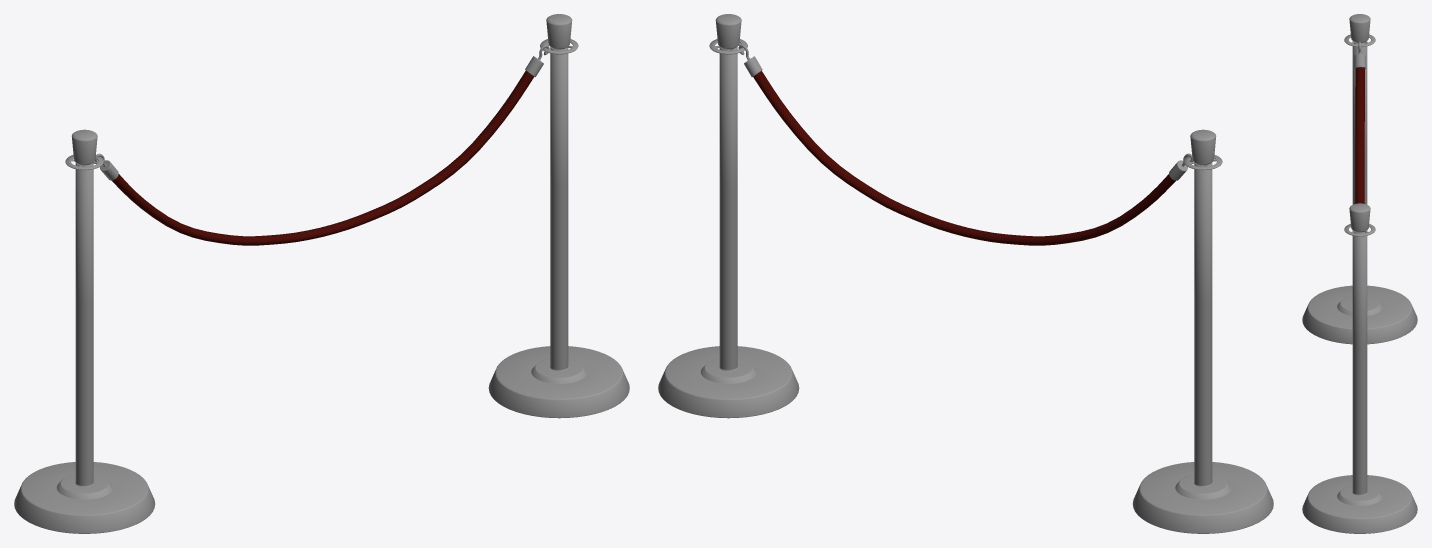
File: entrance_ropes.glb
3 renders of one model, left to right at view 1: azimuth 30°, elevation 25°; view 2: azimuth 150°, elevation 25°; view 3: azimuth 270°, elevation 25°, orthographic. The views are drawn at different scales.
Visible parts, largest first — view 1: MetalPoles_0, Rope_1; view 2: MetalPoles_0, Rope_1; view 3: MetalPoles_0, Rope_1.
Part boxes in pixels (bbox=[...]): MetalPoles_0: bbox=[14, 14, 629, 533]; Rope_1: bbox=[112, 70, 533, 245]; MetalPoles_0: bbox=[658, 14, 1273, 533]; Rope_1: bbox=[753, 71, 1175, 245]; MetalPoles_0: bbox=[1302, 14, 1417, 533]; Rope_1: bbox=[1355, 67, 1364, 203].
Bounding box in the file's own units: 1.5 × 0.8904 × 0.3072.
2 materials, 1 textured.
